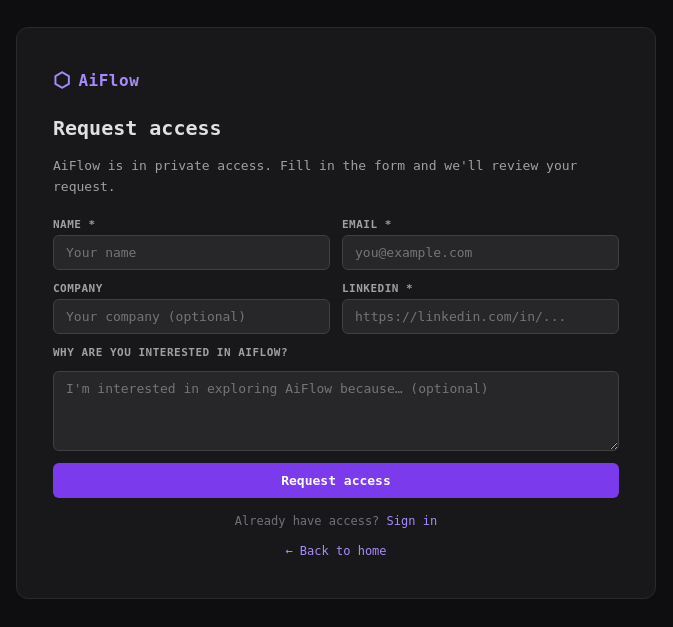
Test: RequestAccessPage › shows generic error when response body is not JSON
Step 1. Type "Alice Smith" into the field labelled "Name *" → (192, 252), box [53,235,330,270]
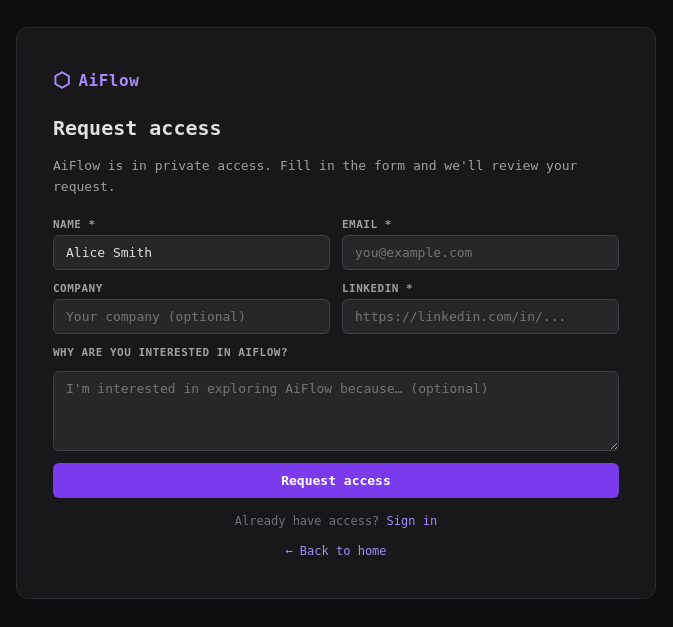
Step 2. Type "alice@example.com" into the field labelled "Email *" → (480, 252), box [342,235,619,270]
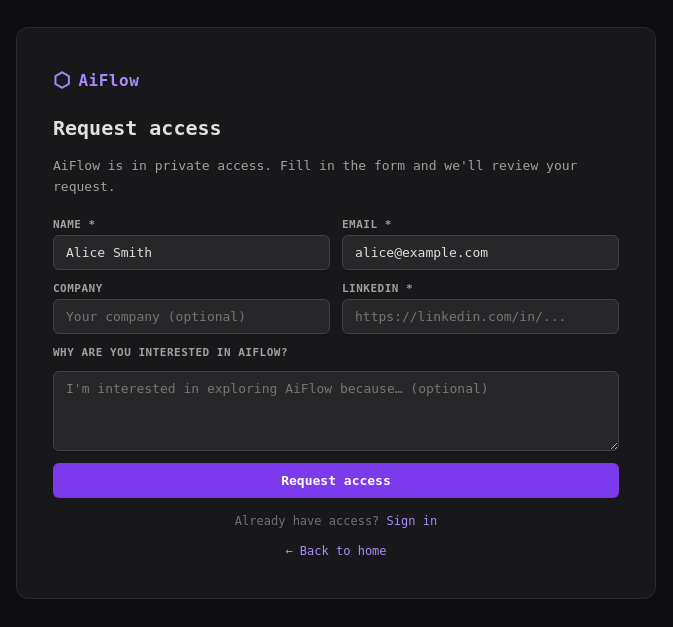
Step 3. Type "https://linkedin.com/in/alice" into the field labelled "LinkedIn *" → (480, 316), box [342,299,619,334]
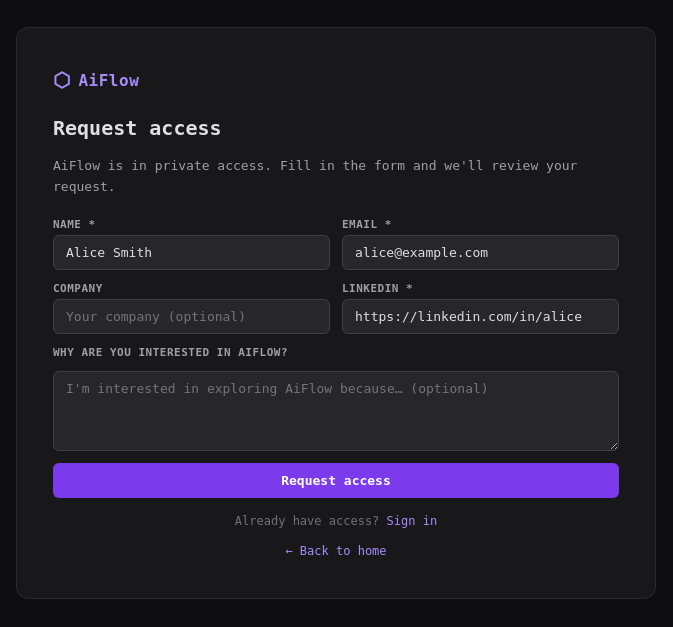
Step 4. Click the button "Request access" → (336, 480), box [53,463,619,498]
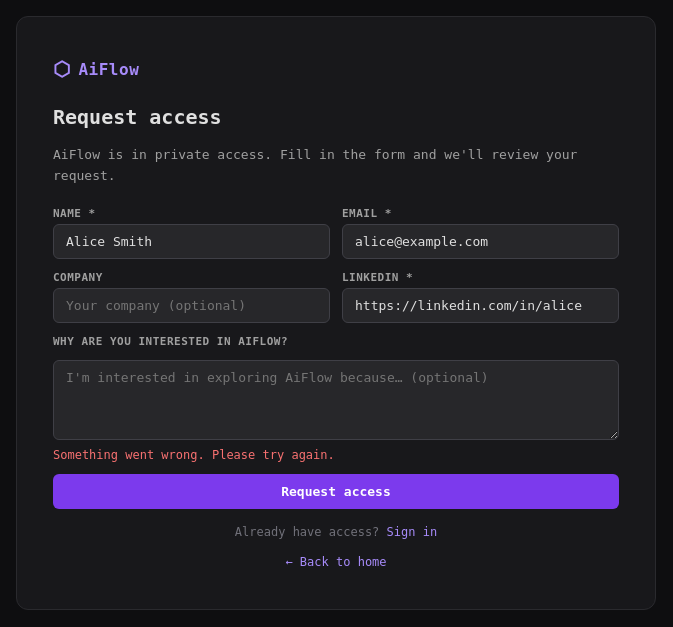
Check: the text "Something went wrong. Please try again." is shown, box [53,448,335,462]
